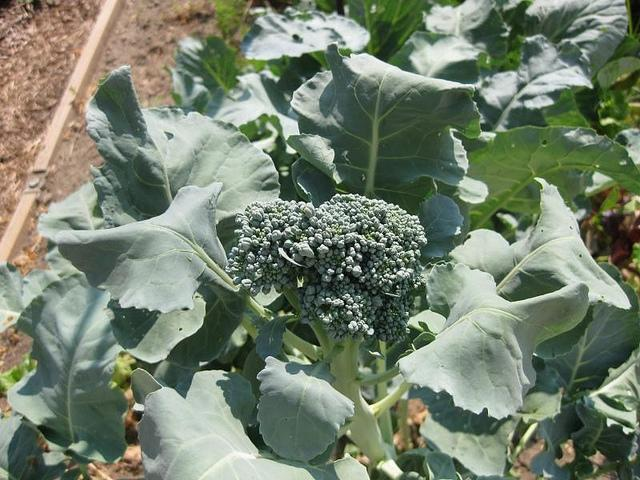broccoli: (225, 192, 428, 382), (422, 0, 513, 65)
